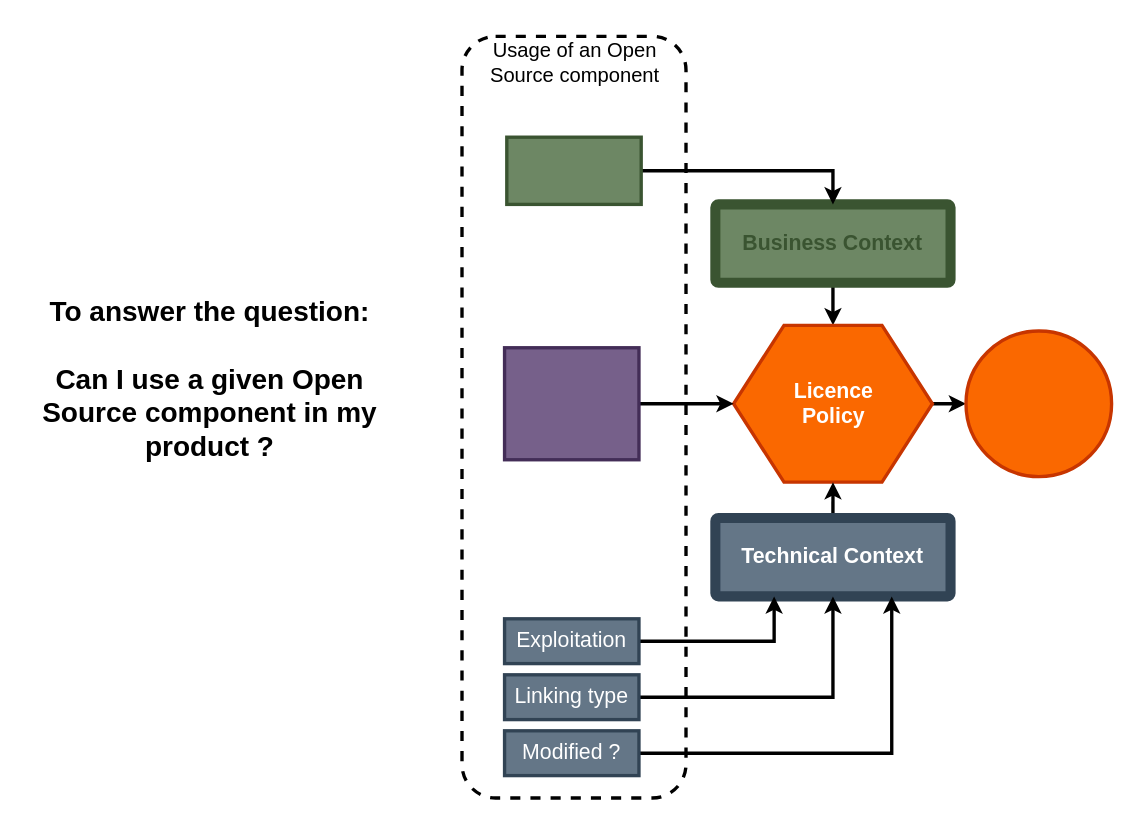
Image size: 1132x819. Some labels were removed from this diagram. Here are the shapes that lost their labels. From the top down, the centre of each, then its label:
At [573,170]: "Product category".
At [571,403]: "Licence of the Open Source component".
At [1038,403]: "Validation: yes/no".
